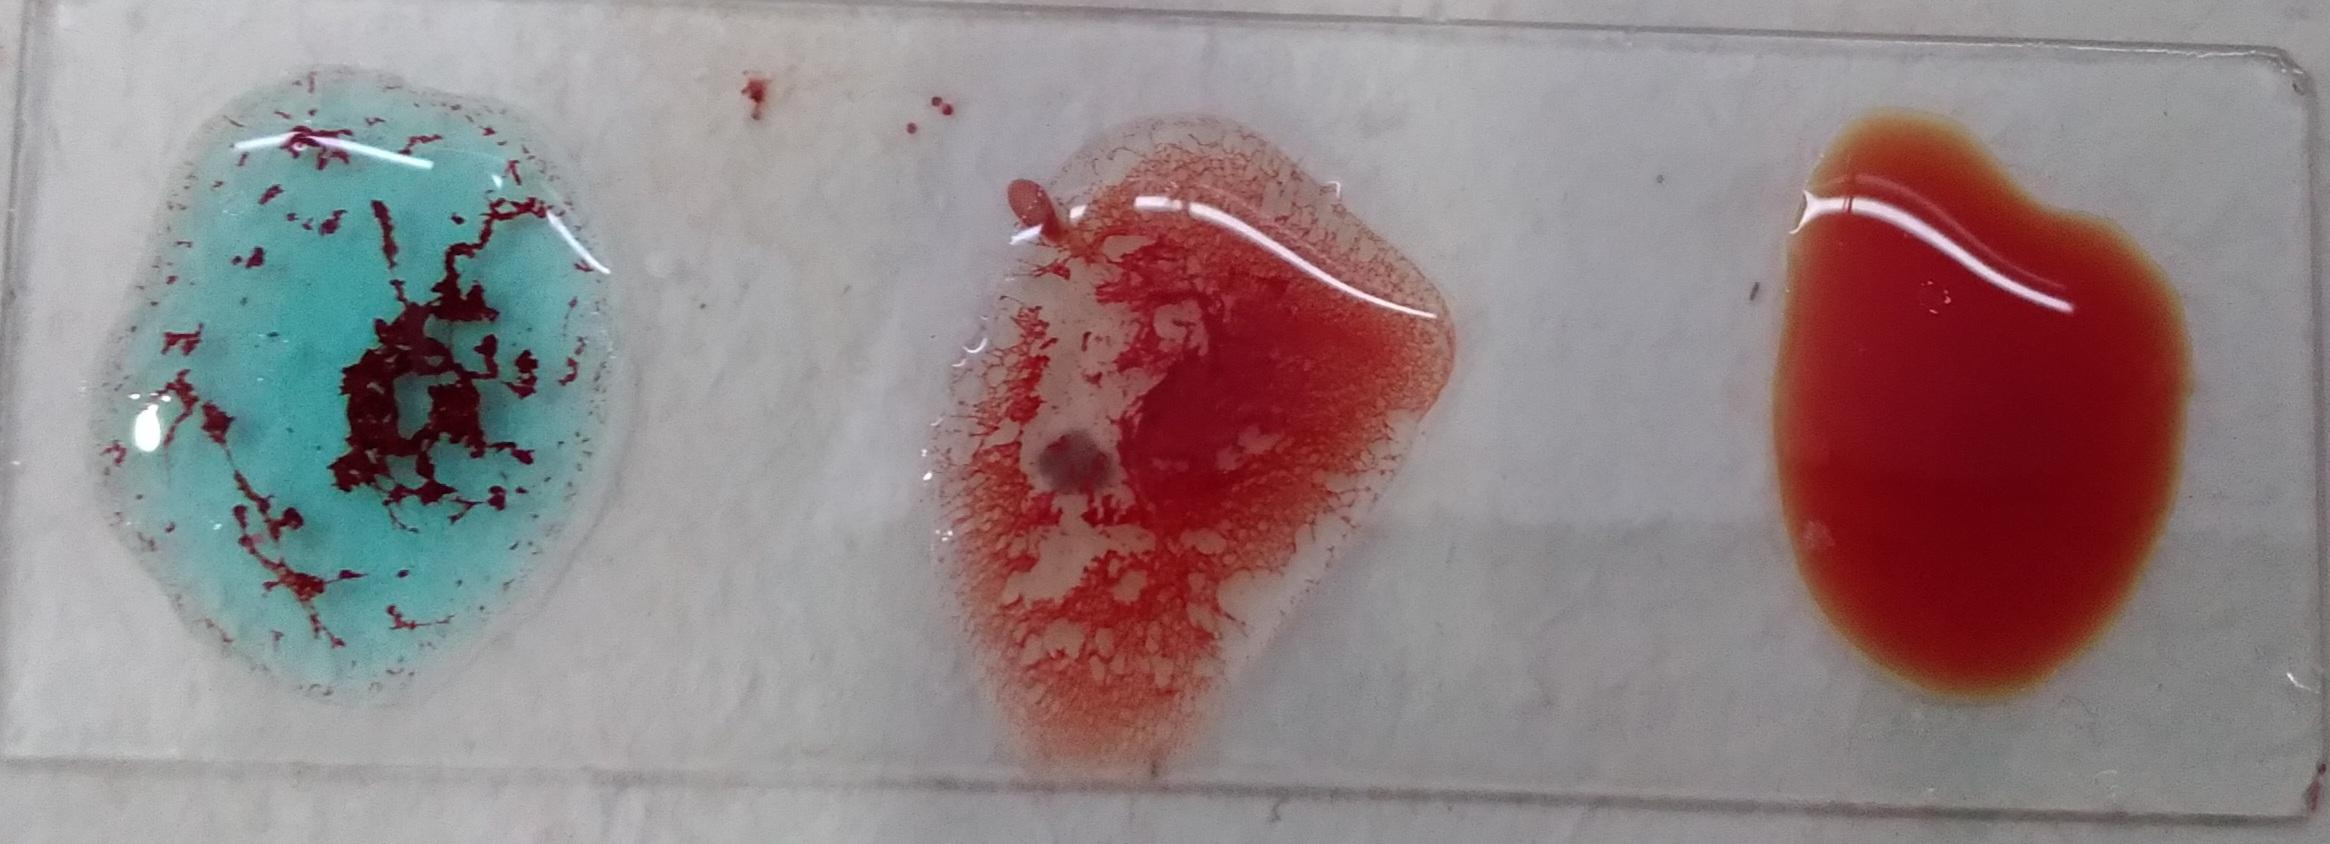A: (98, 46, 639, 709)
D: (930, 146, 1432, 744)
